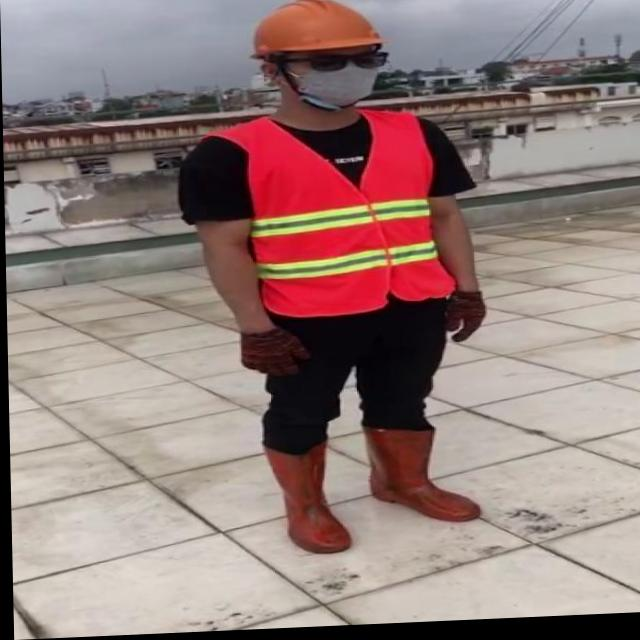Gloves: (238, 327, 310, 381), (441, 293, 484, 347)
Helmet: (248, 0, 387, 62)
Safety-Boot: (359, 422, 478, 529), (259, 438, 348, 558)
Safety-Vest: (190, 106, 470, 326)
